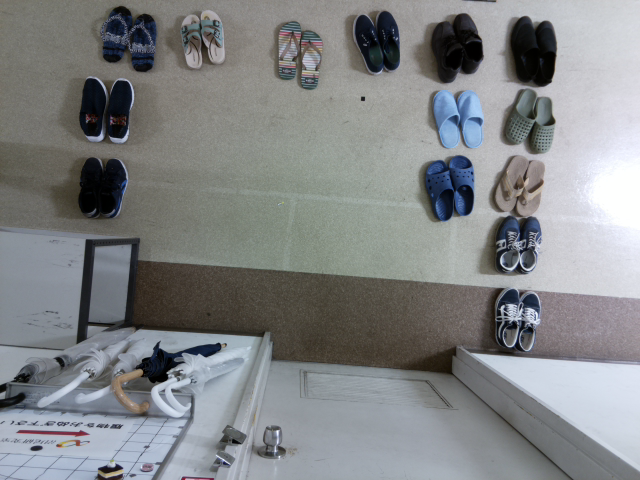Copy of Copy of Copy of Copy of Copy of Copy of Copy of Copy of Copy of Copy of: (452, 12, 484, 73), (430, 20, 458, 84), (509, 15, 535, 82), (535, 20, 558, 87)
Copy of Copy of Copy of Copy of Copy of Copy of Copy of Copy of Copy of shoes: (352, 13, 383, 74)
Copy of Copy of Copy of Copy of Copy of Copy of Copy of Copy of shoes: (375, 10, 400, 72)
Copy of Copy of Copy of Copy of Copy of Copy of Copy of sandal: (99, 5, 132, 62)
Copy of Copy of Copy of Copy of Copy of Copy of Copy of shoes: (77, 157, 104, 216)
Copy of Copy of Copy of Copy of Copy of Copy of sandal: (126, 14, 156, 71)
Copy of Copy of Copy of Copy of Copy of Copy of shoes: (99, 158, 127, 217)
Copy of Copy of Copy of Copy of Copy of sandal: (179, 14, 203, 68)
Copy of Copy of Copy of Copy of Copy of shoes: (78, 76, 108, 143)
Copy of Copy of Copy of Copy of Copy of slipper: (456, 89, 483, 148)
Copy of Copy of Copy of Copy of sandal: (199, 9, 225, 64)
Copy of Copy of Copy of Copy of shoes: (105, 77, 135, 143)
Copy of Copy of Copy of Copy of slipper: (431, 90, 460, 149)
Copy of Copy of Copy of sandal: (278, 20, 301, 79)
Copy of Copy of Copy of shoes: (492, 214, 519, 273)
Copy of Copy of Copy of slipper: (423, 160, 453, 220)
Copy of Copy of sandal: (299, 29, 322, 89)
Copy of Copy of shoes: (517, 215, 542, 277)
Copy of Copy of slipper: (448, 155, 474, 215)
Copy of sandal: (494, 153, 530, 212)
Copy of shoes: (493, 287, 521, 348)
Copy of slipper: (504, 88, 538, 144)
sandal: (514, 160, 544, 218)
shoes: (515, 291, 540, 352)
slipper: (528, 96, 555, 153)
